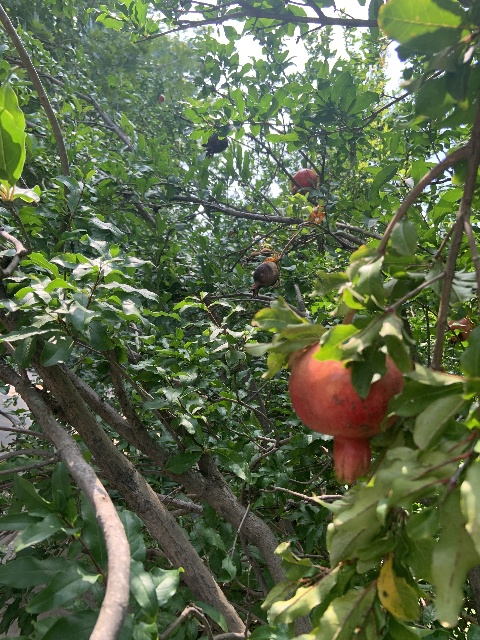ripe: (288, 342, 404, 483), (290, 168, 318, 194), (447, 317, 470, 347)
